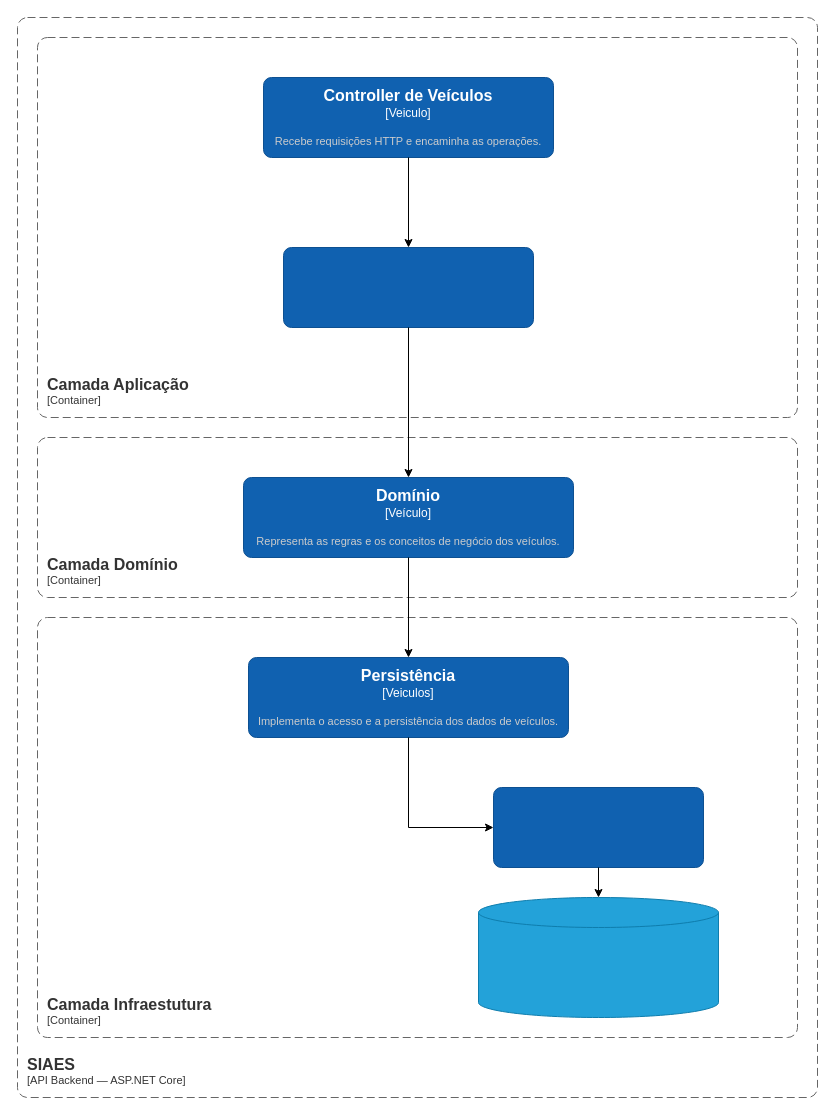
This 835x1115 diagram has some shape labels left out. The shapes that lost their labels are listed below. From the top down, each one's centre as x and y in pixels, then its label:
(408,287): Casos de Uso [Veiculo] Orquestra as operações de gestão de veículos.
(598,827): Entity Framework Core [Entity Framework] Mapeamento objeto-relacional (ORM)
(598,957): SIAES_DB [Container: PostgreSQL 16] Banco de dados relacional do sistema SIAES
